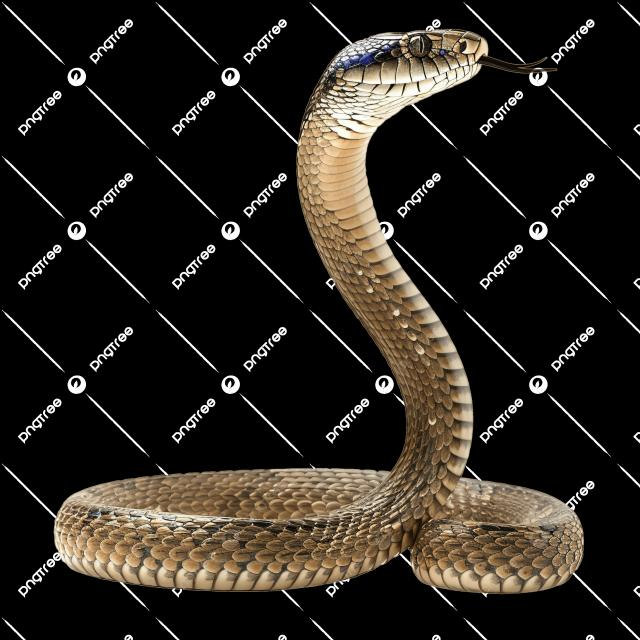Venomous: (287, 18, 562, 155)
